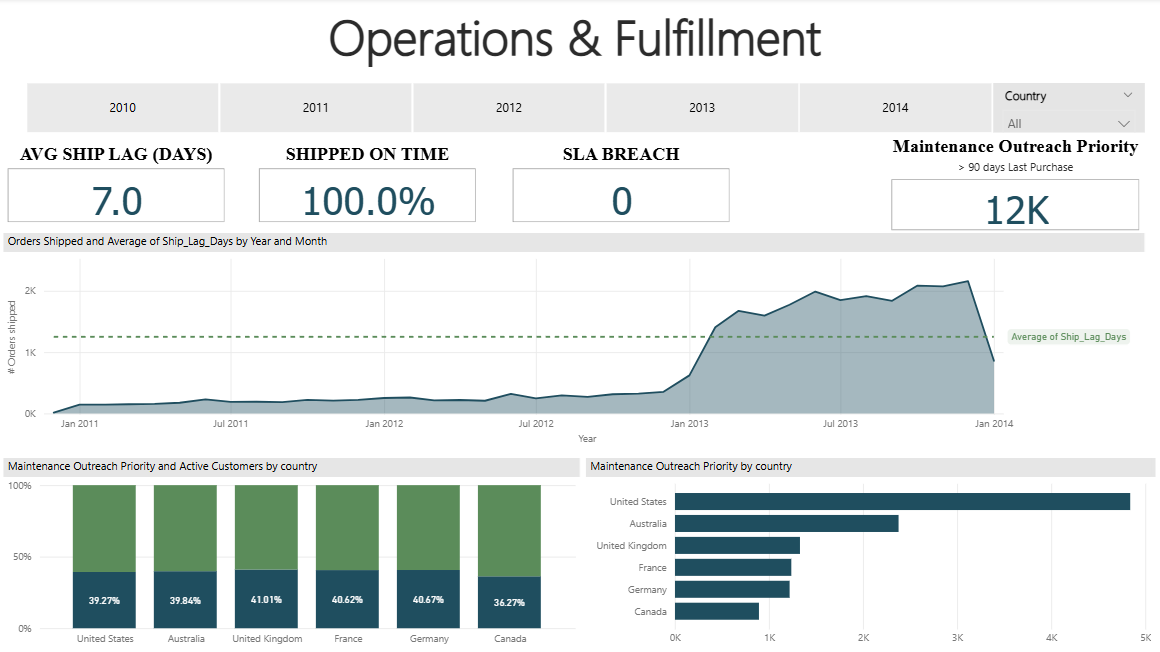

What the dashboard file says about the page in this screenshot:
{"tool":"powerbi","page":{"name":"Operation & Fulfillment","canvas":[1280,720],"ordinal":2},"visuals":[{"type":"group","id":"g1","title":"Group 1","box":[7,86,1253,68],"z":0},{"type":"textbox","box":[234,0,799,86],"z":1000},{"type":"cardVisual","title":"AVG SHIP LAG (DAYS)","fields":{"Data":["_Measures.Ship Lag (days)"]},"box":[6.8,160.5,248,91.4],"z":2000},{"type":"cardVisual","title":"SHIPPED ON TIME","fields":{"Data":["_Measures.% Shipped On Time"]},"box":[283,160.5,248,91.4],"z":3000},{"type":"slicer","fields":{"Values":["Date.Year"]},"box":[7,86,1108.5,68],"z":4000,"group":"g1"},{"type":"cardVisual","title":"SLA BREACH","fields":{"Data":["_Measures.SLA Breach Rate %"]},"box":[561.2,160.5,248,91.4],"z":4000},{"type":"slicer","fields":{"Values":["dim_customers.country"]},"box":[1094,93,166,54],"z":5000,"group":"g1"},{"type":"cardVisual","title":"Maintenance Outreach Priority","fields":{"Data":["_Measures.Maintenance Outreach Priority"]},"box":[977.1,151.4,282.1,108.9],"z":5000},{"type":"lineChart","fields":{"Category":["Date.Date.Variation.Date Hierarchy.Year","Date.Date.Variation.Date Hierarchy.Month"],"Y":["_Measures.Orders Shipped"],"Y2":["Avg(fact_sales.Ship_Lag_Days)"]},"box":[6.7,257.7,1253.1,236.9],"z":6000},{"type":"clusteredBarChart","fields":{"Category":["dim_customers.country"],"Y":["_Measures.Maintenance Outreach Priority"]},"box":[646.8,504.8,625.4,215],"z":7000},{"type":"hundredPercentStackedColumnChart","fields":{"Category":["dim_customers.country"],"Y":["_Measures.Maintenance Outreach Priority","_Measures.Active Customers"]},"box":[7,505,633,215],"z":8000}]}

Visuals, with their boxes in screenshot pixels (x1, y1, x2, y2), scaled from the page's 1280x720 canvas onto the 1160x652 screenshot:
"Group 1" group: <region>6, 78, 1142, 139</region>
textbox: <region>212, 0, 936, 78</region>
"AVG SHIP LAG (DAYS)" cardVisual: <region>6, 145, 231, 228</region>
"SHIPPED ON TIME" cardVisual: <region>256, 145, 481, 228</region>
slicer - Date.Year: <region>6, 78, 1011, 139</region>
"SLA BREACH" cardVisual: <region>509, 145, 733, 228</region>
slicer - dim_customers.country: <region>991, 84, 1142, 133</region>
"Maintenance Outreach Priority" cardVisual: <region>885, 137, 1141, 236</region>
lineChart - Date.Date.Variation.Date Hierarchy.Year x Date.Date.Variation.Date Hierarchy.Month: <region>6, 233, 1142, 448</region>
clusteredBarChart - dim_customers.country x _Measures.Maintenance Outreach Priority: <region>586, 457, 1153, 651</region>
hundredPercentStackedColumnChart - dim_customers.country x _Measures.Maintenance Outreach Priority: <region>6, 457, 580, 651</region>
